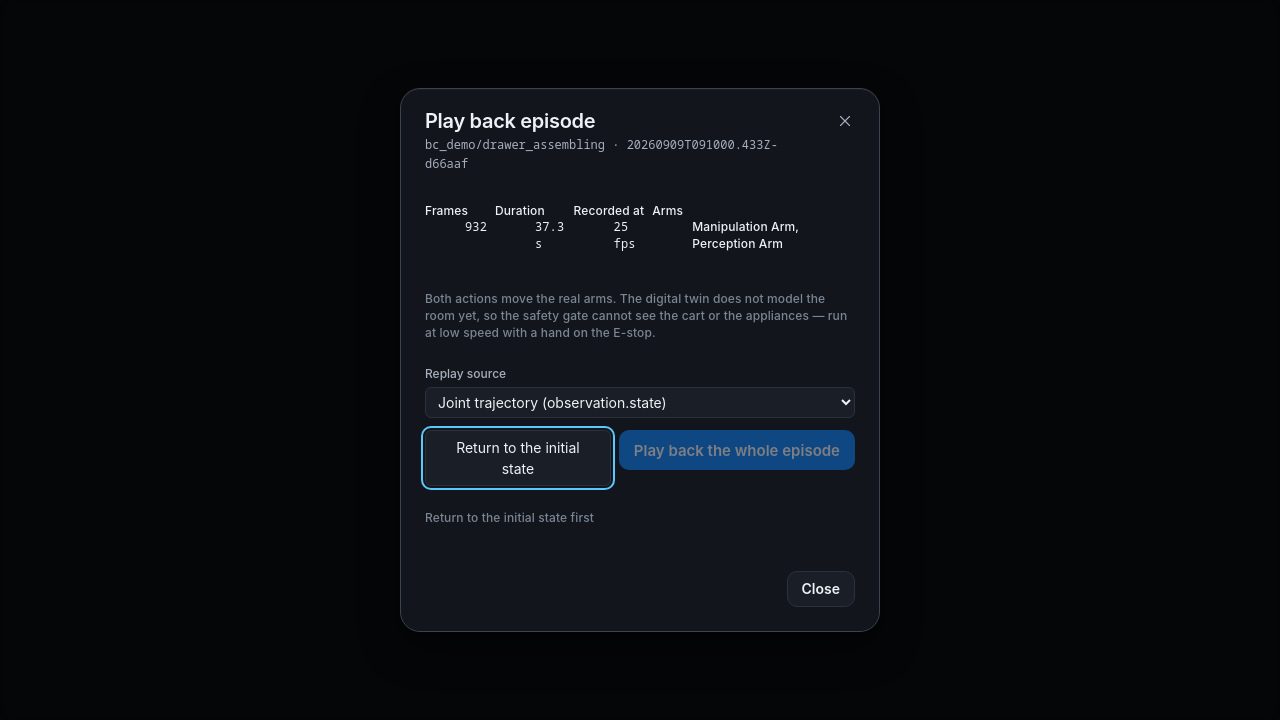
Test: PlaybackDialog › the replay source defaults to the joint trajectory and `play` says so on the wire
The image size is (1280, 720).
Expected: the element with test id "playback-meta" is shown, [425, 200, 855, 255]
Click the button with test id "playback-goto-initial": (518, 458) [425, 430, 611, 486]
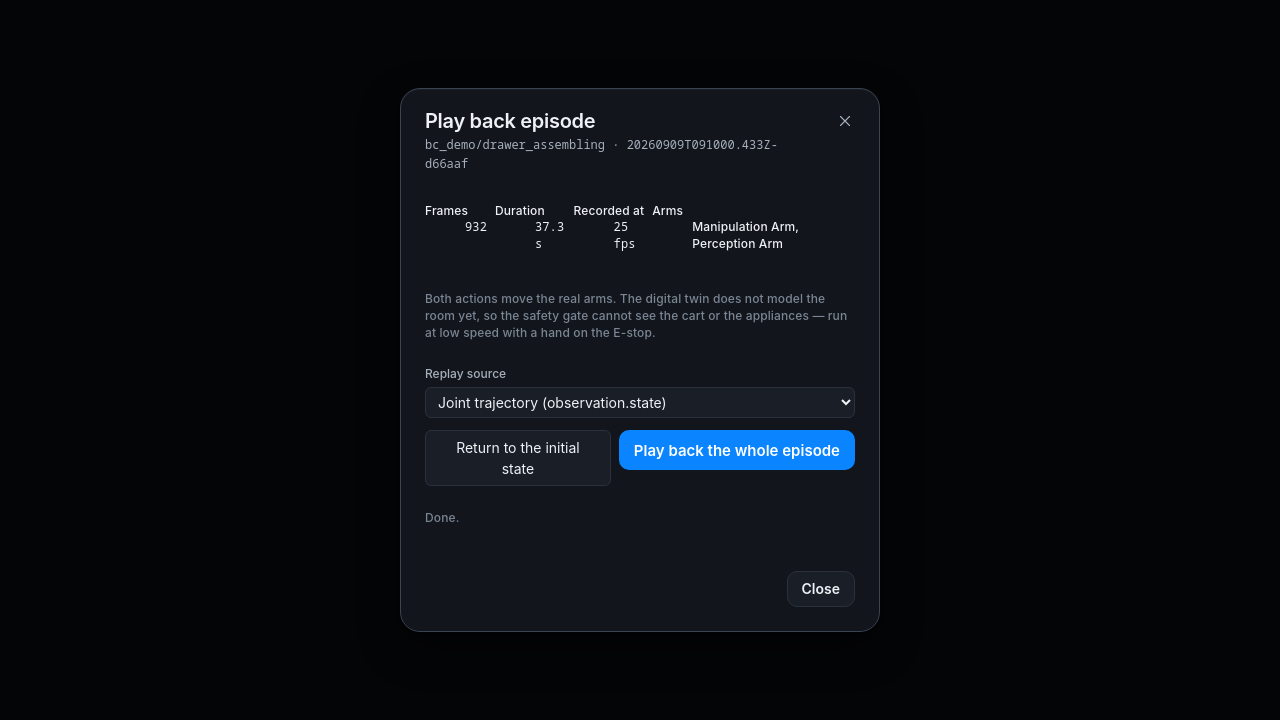
Expected: the dropdown with test id "playback-source" shows "Joint trajectory (observation.state)", [425, 387, 855, 418]
Result: the button with test id "playback-play" is enabled
Click the button with test id "playback-play": (737, 450) [619, 430, 855, 470]
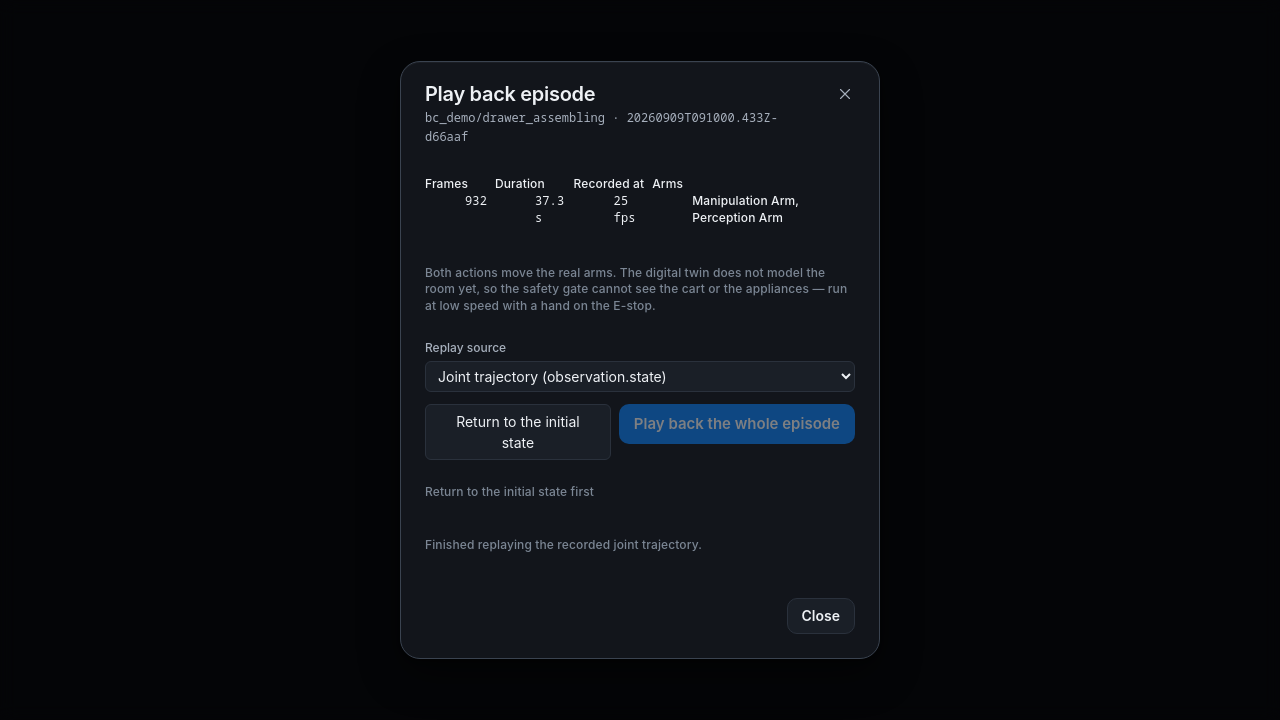
Result: the message with test id "playback-outcome" reads "Finished replaying the recorded joint trajectory." at [425, 537, 702, 552]
